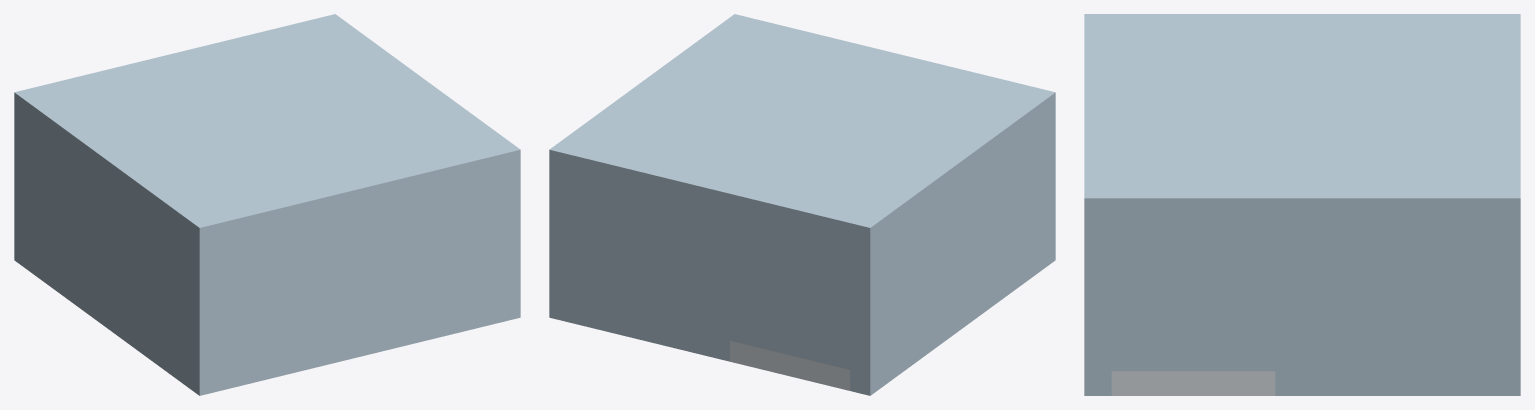
File: ice-bend.glb
3 renders of one model, left to right at view 1: azimuth 30°, elevation 25°; view 2: azimuth 150°, elevation 25°; view 3: azimuth 270°, elevation 25°, orthographic. The views are drawn at different scales.
Parts seen in each view (by area): view 1: ice-rock_11, ice-rock_1, ice-rock_10, ice-rock_6, ice-rock_8, ice-rock_9; view 2: ice-rock_11, ice-rock_1, ice-rock_2, plug_ice_north, snow_1; view 3: ice-rock_11, plug_ice_east, ice-rock_3, ice-rock_5, ice-rock_4, ice-rock_7, ice-rock_2, ice-rock_10, snow_9.
Part boxes in pixels (left/top/right/bottom): ice-rock_11: left=14, top=14, right=520, bottom=248; ice-rock_1: left=14, top=113, right=219, bottom=395; ice-rock_10: left=340, top=170, right=520, bottom=361; ice-rock_6: left=219, top=234, right=259, bottom=390; ice-rock_8: left=260, top=224, right=299, bottom=380; ice-rock_9: left=300, top=215, right=339, bottom=371; ice-rock_11: left=549, top=14, right=1055, bottom=248; ice-rock_1: left=850, top=113, right=1055, bottom=395; ice-rock_2: left=549, top=170, right=729, bottom=361; plug_ice_north: left=730, top=215, right=850, bottom=369; snow_1: left=730, top=341, right=850, bottom=390; ice-rock_11: left=1084, top=14, right=1520, bottom=222; plug_ice_east: left=1111, top=223, right=1275, bottom=371; ice-rock_3: left=1438, top=223, right=1493, bottom=395; ice-rock_5: left=1329, top=223, right=1384, bottom=395; ice-rock_4: left=1384, top=223, right=1438, bottom=395; ice-rock_7: left=1275, top=223, right=1329, bottom=395; ice-rock_2: left=1493, top=223, right=1520, bottom=395; ice-rock_10: left=1084, top=223, right=1111, bottom=395; snow_9: left=1111, top=371, right=1275, bottom=395.
Size of the model in its own units: 8 by 4 by 8.
